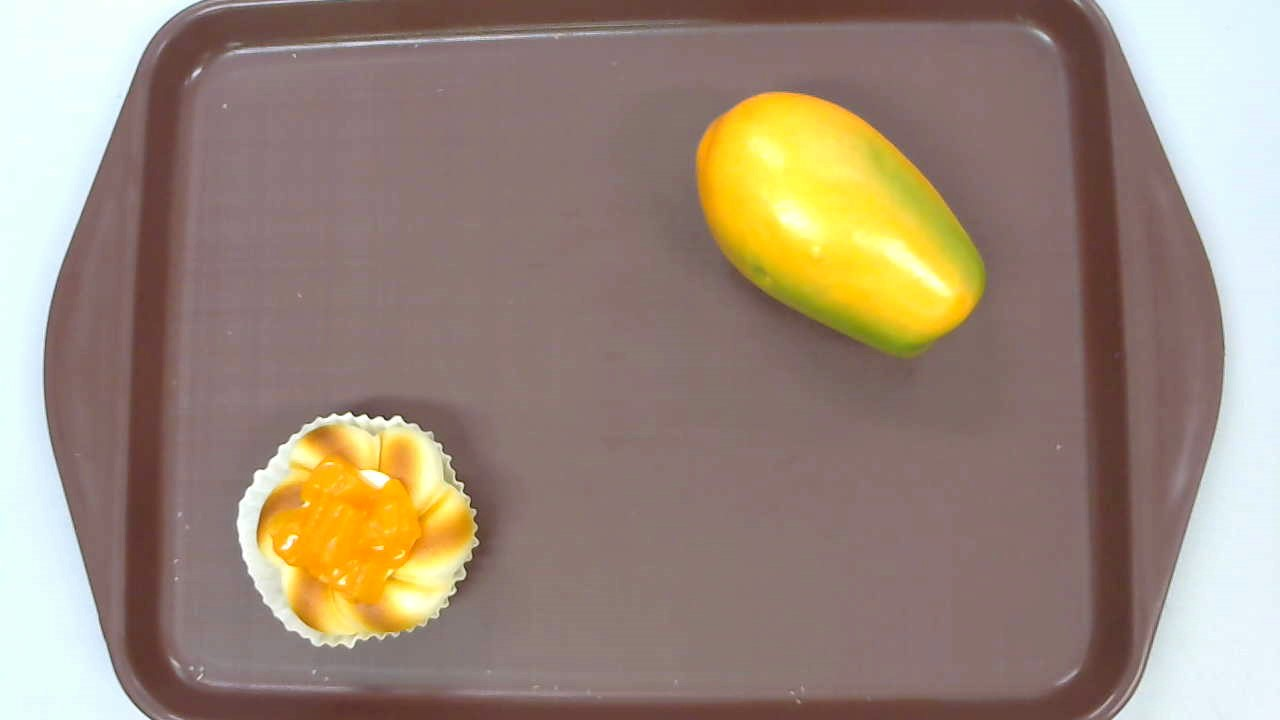mango tart: (237, 411, 479, 648)
papya: (693, 91, 985, 359)
